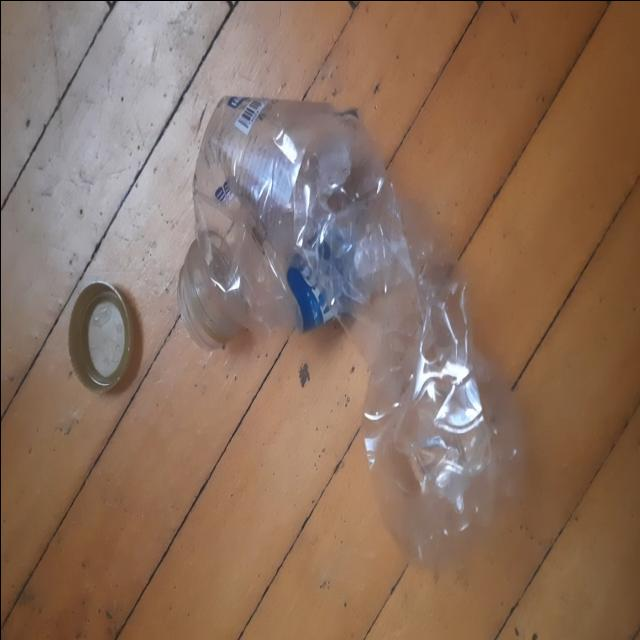Plastic: (189, 94, 521, 576)
